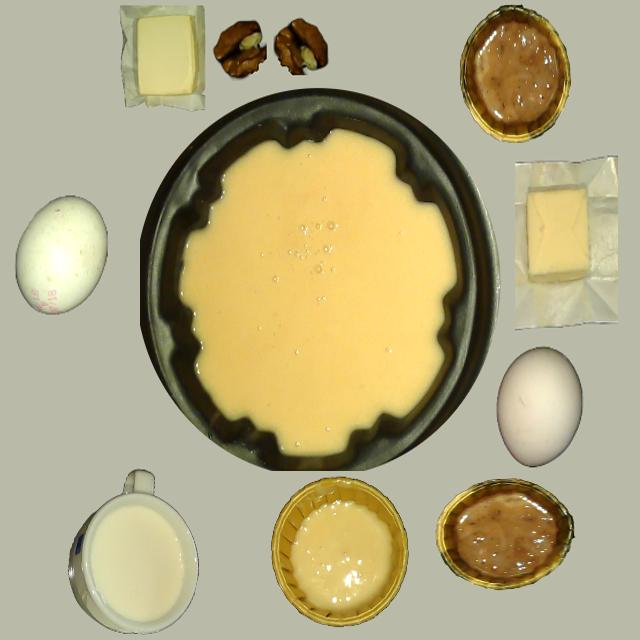Milk: (66, 469, 200, 639)
